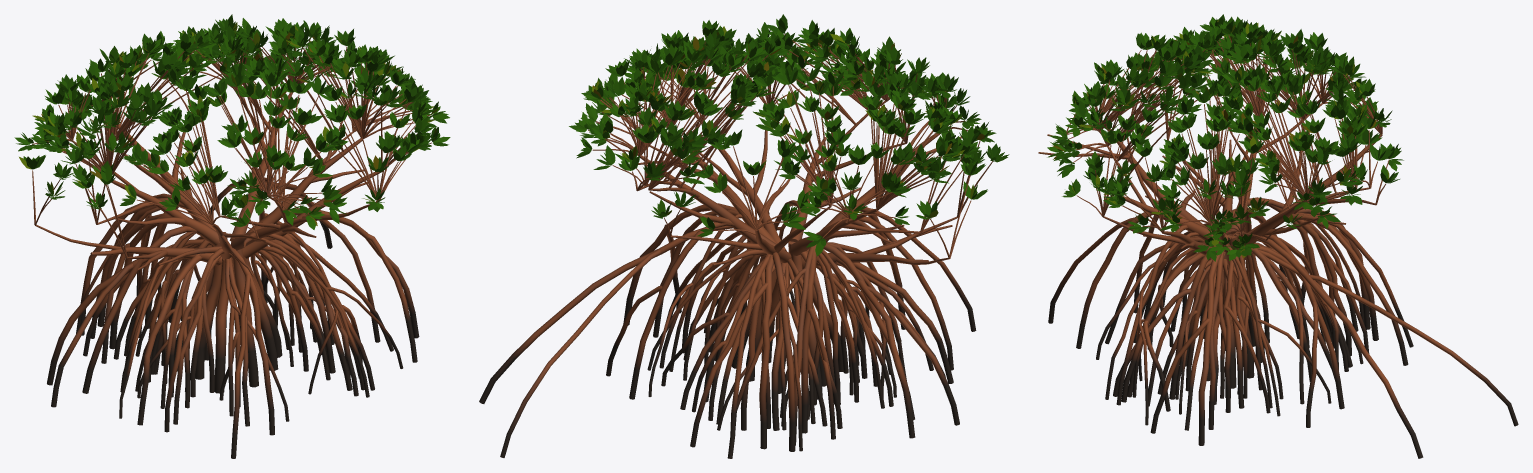
File: RedMangrove_07_RedStems.fbx
The picture shows the model from 3 angles, left to right: view 1: azimuth 30°, elevation 25°; view 2: azimuth 150°, elevation 25°; view 3: azimuth 270°, elevation 25°; orthographic projection. The views are drawn at different scales.
Visible parts, largest first — view 1: RedMangrove_07_RedStems_LOD0; view 2: RedMangrove_07_RedStems_LOD0; view 3: RedMangrove_07_RedStems_LOD0.
Boxes of the visible parts, bbox=[...] form: RedMangrove_07_RedStems_LOD0: bbox=[14, 14, 450, 458]; RedMangrove_07_RedStems_LOD0: bbox=[479, 14, 1009, 458]; RedMangrove_07_RedStems_LOD0: bbox=[1038, 14, 1518, 458].
Size of what is drawn, in the model's own units: 5.05 by 4.03 by 5.58.
